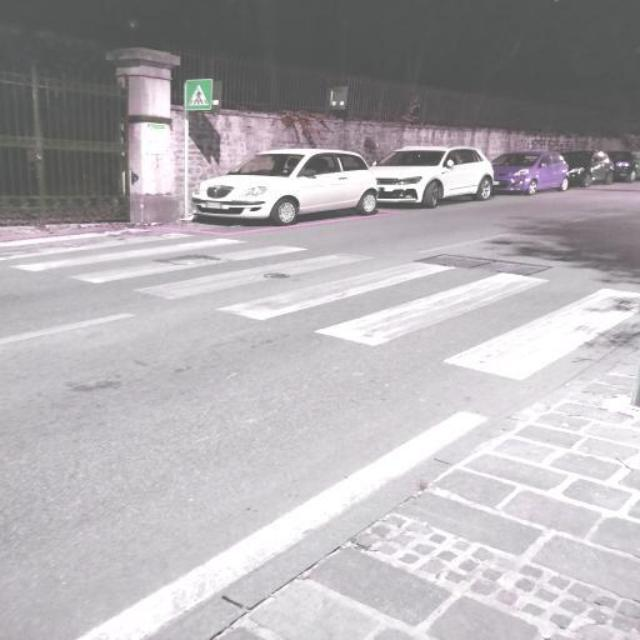sidewalk: (0, 230, 640, 395)
